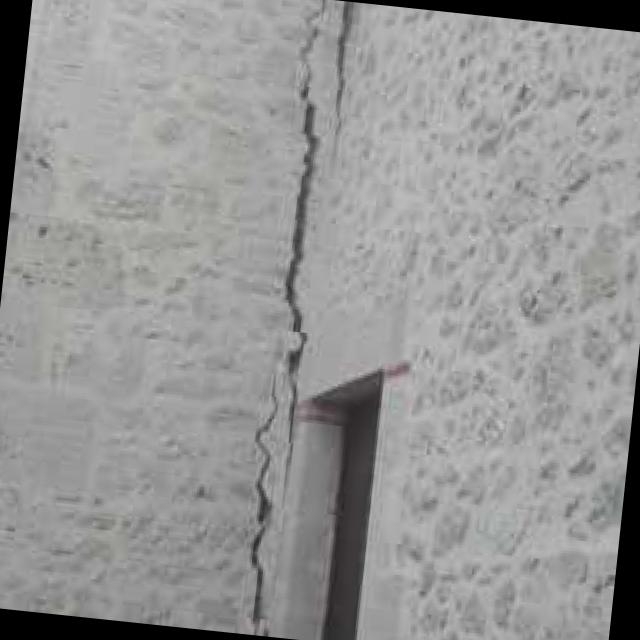crack: (281, 5, 328, 364), (244, 368, 281, 631)
